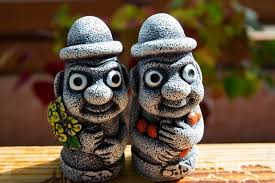Stone Statue: (39, 8, 132, 181), (124, 11, 214, 183)
